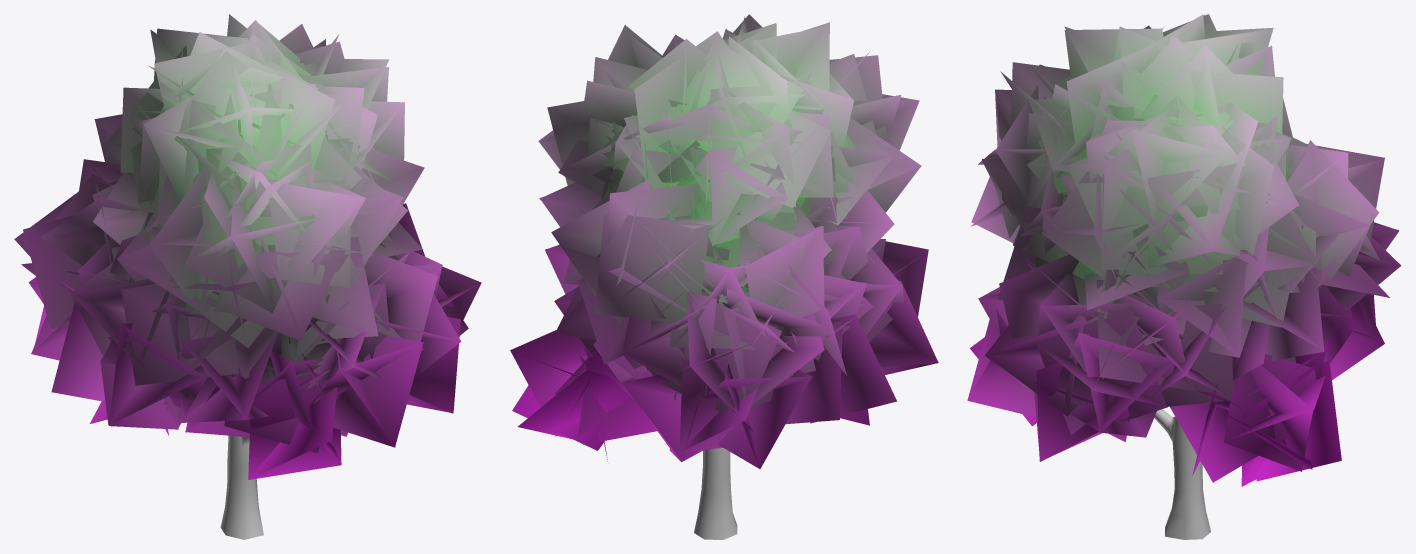
The model's file is YB_Tree_M_1.fbx.
3 views of the same model, side by side, from view 1: azimuth 30°, elevation 25°; view 2: azimuth 150°, elevation 25°; view 3: azimuth 270°, elevation 25° (orthographic).
Visible parts, largest first — view 1: YB_Tree_M_1_leaf, YB_Tree_M_1_trunk; view 2: YB_Tree_M_1_leaf, YB_Tree_M_1_trunk; view 3: YB_Tree_M_1_leaf, YB_Tree_M_1_trunk.
Part boxes in pixels (x1,y1,x2,y2): YB_Tree_M_1_leaf: (14,14,481,479); YB_Tree_M_1_trunk: (220,435,263,539); YB_Tree_M_1_leaf: (510,14,938,468); YB_Tree_M_1_trunk: (694,448,737,539); YB_Tree_M_1_leaf: (967,14,1401,486); YB_Tree_M_1_trunk: (1154,409,1210,539).
Bounding box in the file's own units: 682 × 861 × 678.
